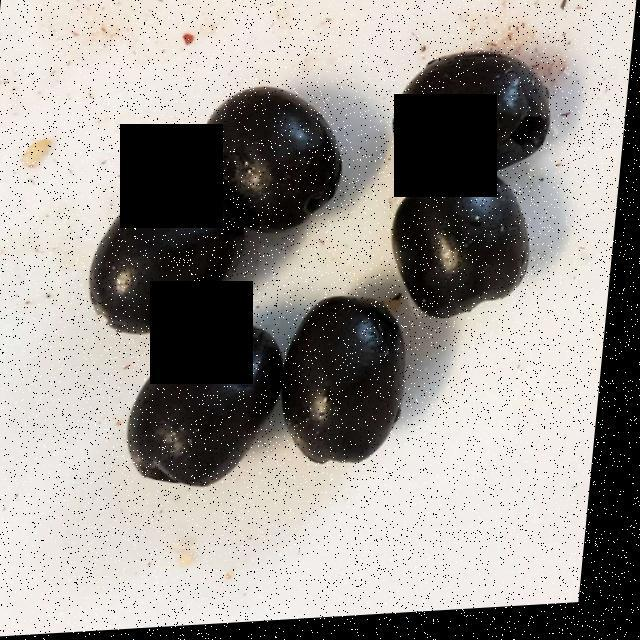black-olives: (127, 331, 283, 490), (282, 291, 406, 467), (397, 174, 531, 324), (87, 217, 252, 327), (214, 87, 335, 216), (424, 54, 550, 163)
